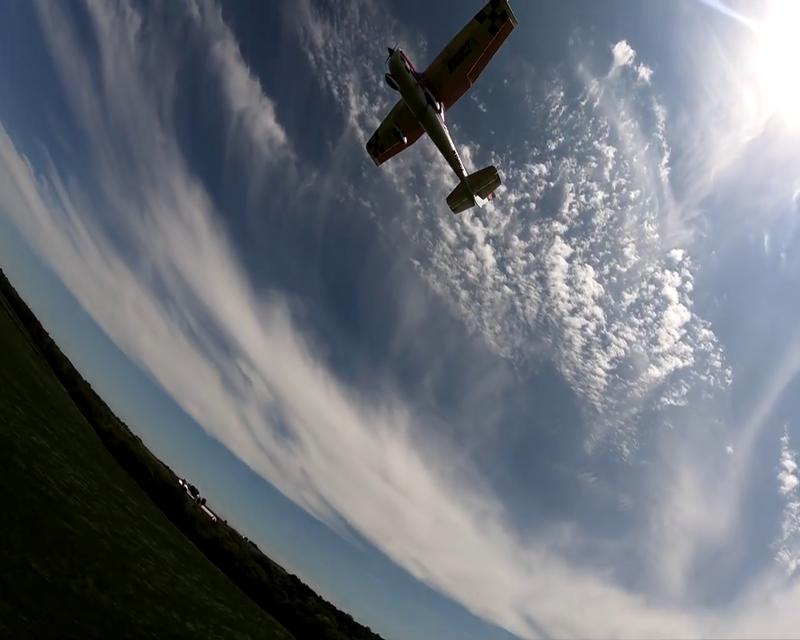UAV: (364, 0, 520, 214)
